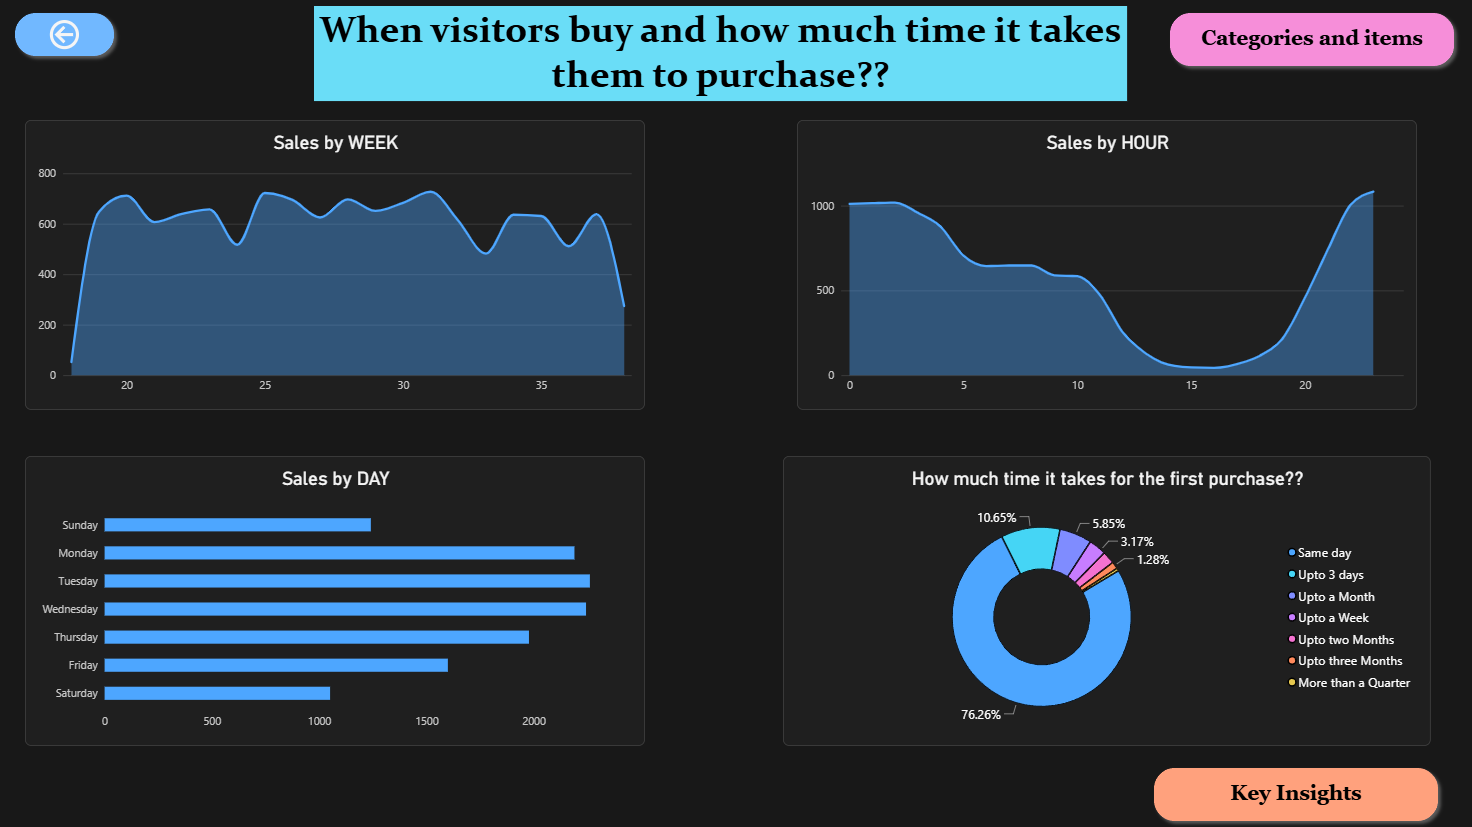

The dashboard page shown, as its layout file describes it:
{"tool":"powerbi","page":{"name":"Shopping behaviour","canvas":[1920,1080],"ordinal":1},"visuals":[{"type":"areaChart","title":"Sales by WEEK","fields":{"Category":["funnel_over_week.week"],"Y":["Sum(funnel_over_week.buyers)"]},"box":[38.8,164.3,802.2,375.2],"z":0},{"type":"clusteredBarChart","title":"Sales by DAY","fields":{"Category":["funnel_over_day.day"],"Y":["Sum(funnel_over_day.buyers)"]},"box":[38.8,599,802.2,375.2],"z":1000},{"type":"areaChart","title":"Sales by HOUR","fields":{"Category":["funnel_over_hour.hour"],"Y":["Sum(funnel_over_hour.buyers)"]},"box":[1037.6,164.3,802.2,375.2],"z":2000},{"type":"donutChart","title":"How much time it takes for the first purchase??","fields":{"Category":["visitor_view_to_purchase_time.purchase_behaviour_status"],"Y":["Sum(visitor_view_to_purchase_time.total_number)"]},"box":[1019.5,599,838.4,375.2],"z":3000},{"type":"textbox","box":[412.7,16.8,1051.9,122.9],"z":4000},{"type":"actionButton","box":[1511.2,16.8,385.6,86.7],"z":5000},{"type":"actionButton","box":[16.8,16.8,146.2,73.7],"z":6000},{"type":"actionButton","box":[1490,993.3,385.6,86.7],"z":8000}]}

Visuals, with their boxes in screenshot pixels (x1, y1, x2, y2), scaled from the page's 1920x1080 canvas onto the 1472x827 screenshot:
"Sales by WEEK" areaChart: 30:126:645:413
"Sales by DAY" clusteredBarChart: 30:459:645:746
"Sales by HOUR" areaChart: 795:126:1411:413
"How much time it takes for the first purchase??" donutChart: 782:459:1424:746
textbox: 316:13:1123:107
actionButton: 1159:13:1454:79
actionButton: 13:13:125:69
actionButton: 1142:761:1438:826
